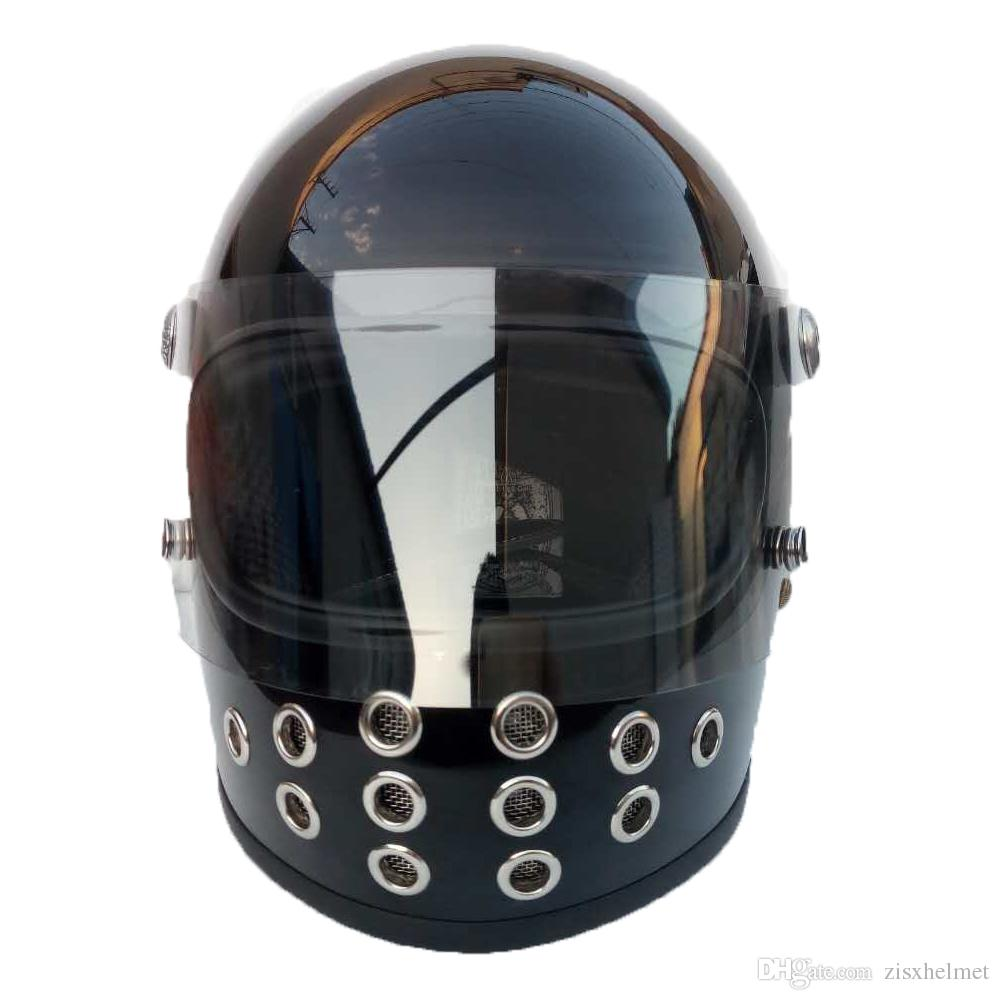with_helmet: (151, 32, 833, 961)
